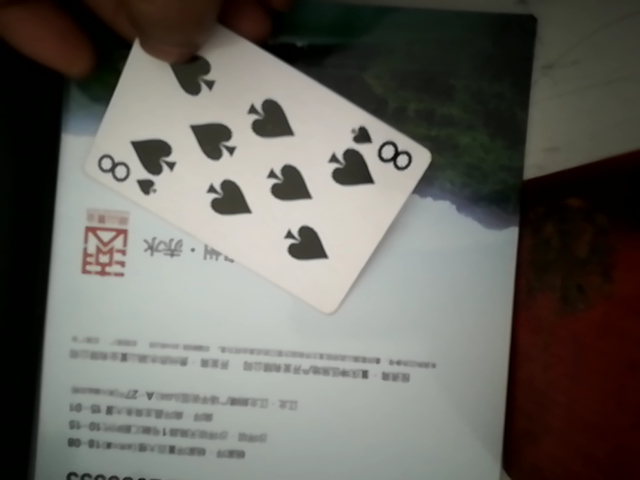ht 8: (70, 26, 433, 318)
